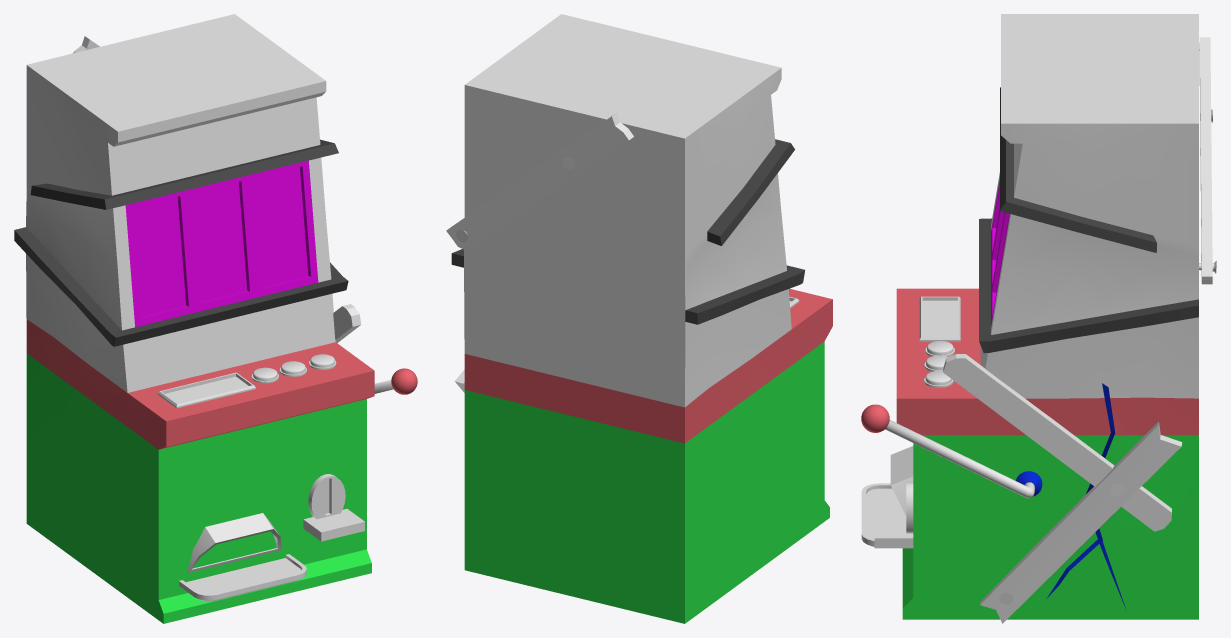
The model's file is Slots.fbx.
3 views of the same model, side by side, from view 1: azimuth 30°, elevation 25°; view 2: azimuth 150°, elevation 25°; view 3: azimuth 270°, elevation 25° (orthographic). The views are drawn at different scales.
Visible parts, largest first — view 1: Cube.001, Cube.004, Cube.002, Cube.003, Cube.028, Cylinder.002, Cube.006; view 2: Cube.001, Cube.027; view 3: Cube.001, Cube, Cube.006, Cube.027, Cube.004, Cylinder.002, Cube.002, Cube.028.
Part boxes in pixels (x1,y1,x2,y2): Cube.001: [14, 14, 374, 623]; Cube.004: [179, 513, 306, 601]; Cube.002: [157, 372, 255, 408]; Cube.003: [308, 474, 345, 519]; Cube.028: [303, 508, 364, 541]; Cylinder.002: [374, 368, 417, 394]; Cube.006: [333, 304, 361, 343]; Cube.001: [451, 14, 832, 623]; Cube.027: [446, 113, 633, 251]; Cube.001: [896, 14, 1198, 619]; Cube: [980, 421, 1182, 623]; Cube.006: [943, 354, 1171, 531]; Cube.027: [1199, 37, 1212, 284]; Cube.004: [861, 446, 913, 547]; Cylinder.002: [861, 404, 1034, 498]; Cube.002: [919, 296, 960, 341]; Cube.028: [874, 515, 913, 548].
Size of the model in its own units: 2.45 by 4.3 by 2.74.
